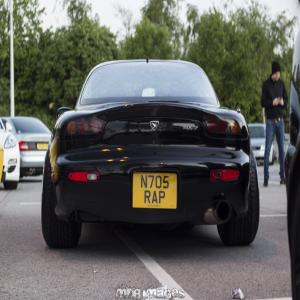Vehicle-registration-plate: (132, 171, 183, 223), (38, 143, 50, 151)
